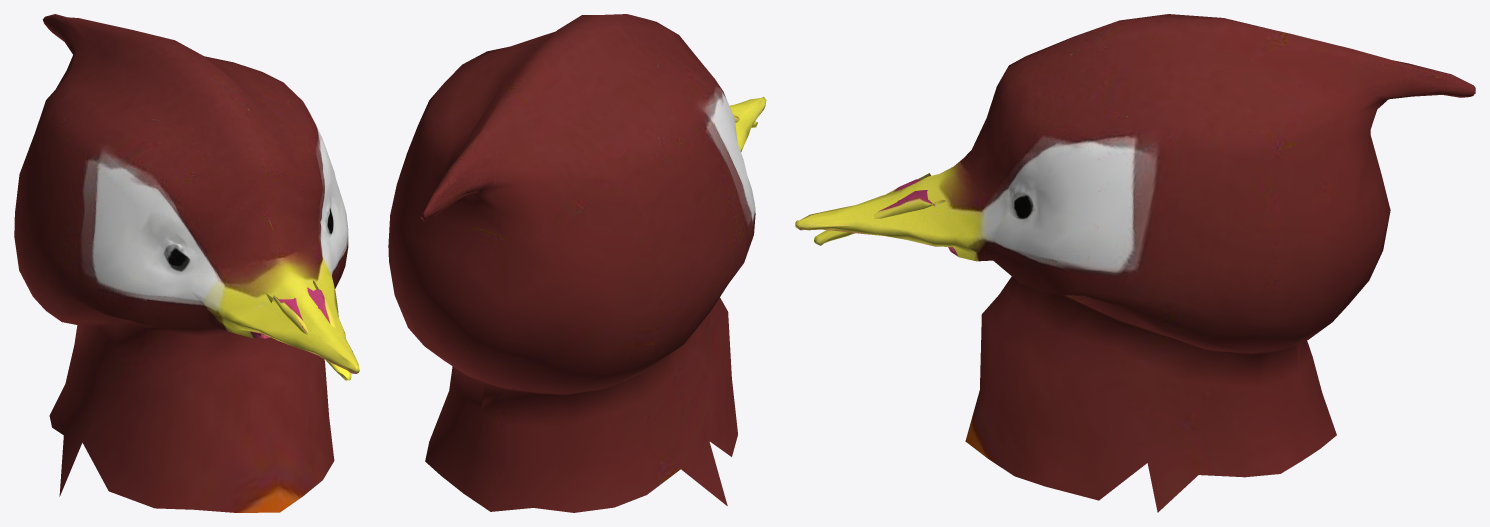
File: xiaoniao.glb
3 views of the same model, side by side, from view 1: azimuth 30°, elevation 25°; view 2: azimuth 150°, elevation 25°; view 3: azimuth 270°, elevation 25° (orthographic). The views are drawn at different scales.
Visible parts, largest first — view 1: Head; view 2: Head; view 3: Head.
Boxes of the visible parts, x1,y1,x2,y2 form: Head: [14, 14, 359, 512]; Head: [388, 14, 766, 512]; Head: [795, 14, 1475, 512].
Size of the model in its own units: 0.1821 by 0.2568 by 0.3594.
Materials: 1 (1 with a texture image).
